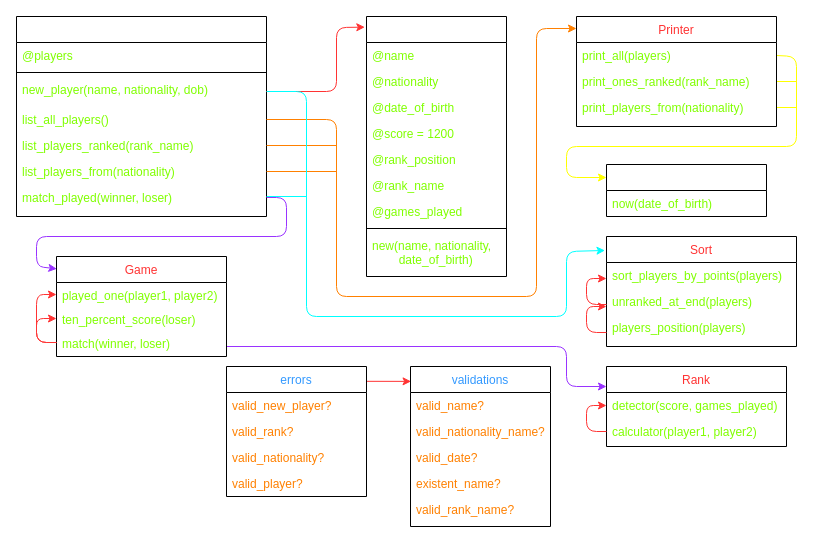
Some shapes in this 813 by 543 pixel diagram are drawn without their labels. Each missing label, with the box of its shape:
Age: (606, 164, 766, 216)
Club: (16, 16, 266, 216)
Player: (366, 16, 506, 276)
